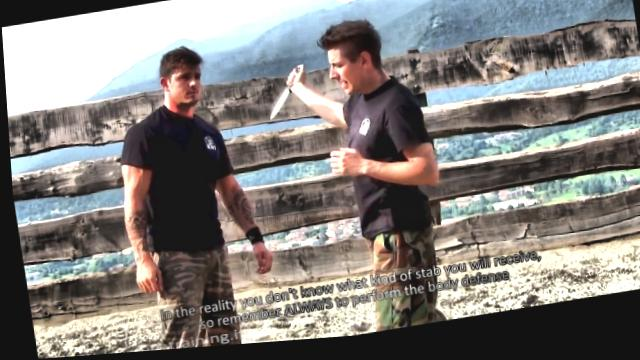knife: (258, 66, 312, 127)
